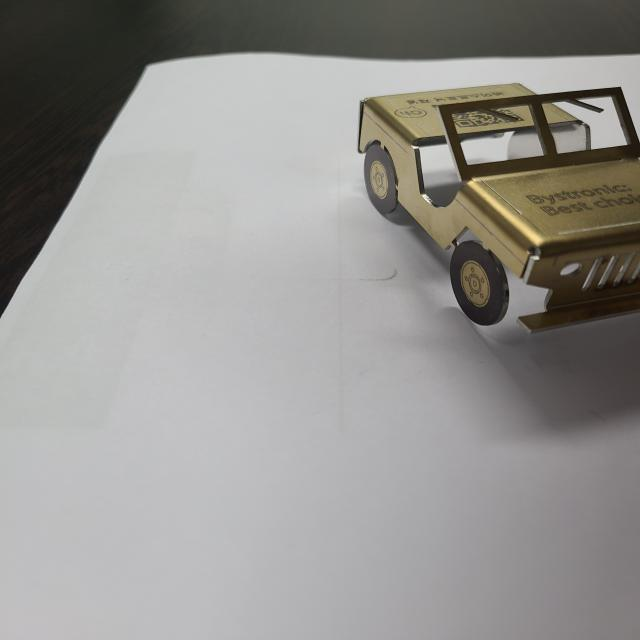tire: (451, 240, 510, 326), (364, 144, 400, 214)
